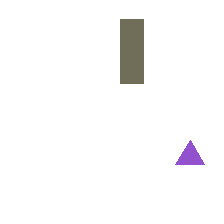rectangle: (120, 19, 143, 83)
triangle: (175, 140, 204, 164)
